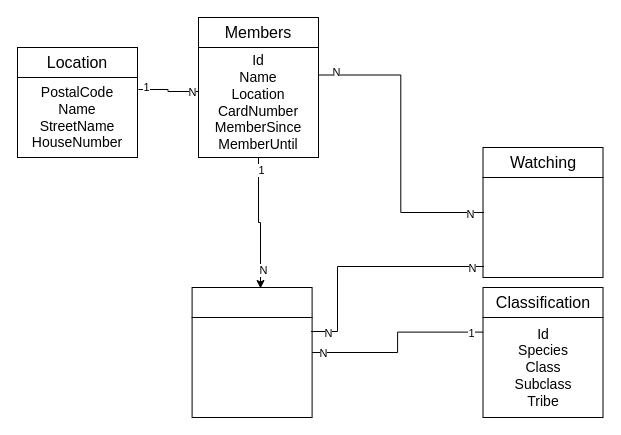
The diagram is 621 pixels wide and 435 high, and some of its shapes have lost their labels. Here are the shapes that lost their labels. From the top down, the centre of each, then its label:
[542,227]: Id Member Location Date Bird
[251,302]: Birds
[251,367]: RingNumber(Id) Classification RingerName RingingDate RingingLocation
